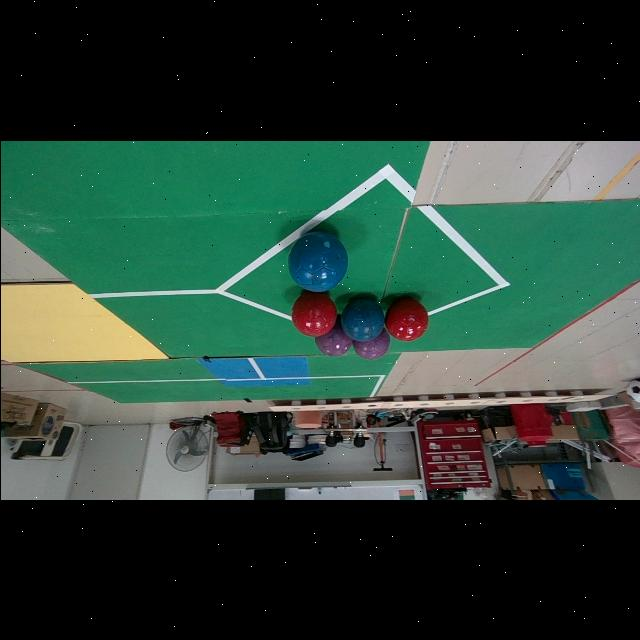B: (287, 230, 347, 291), (342, 299, 384, 340)
P: (314, 317, 353, 354), (353, 328, 389, 360)
R: (291, 291, 335, 337), (384, 297, 427, 341)
